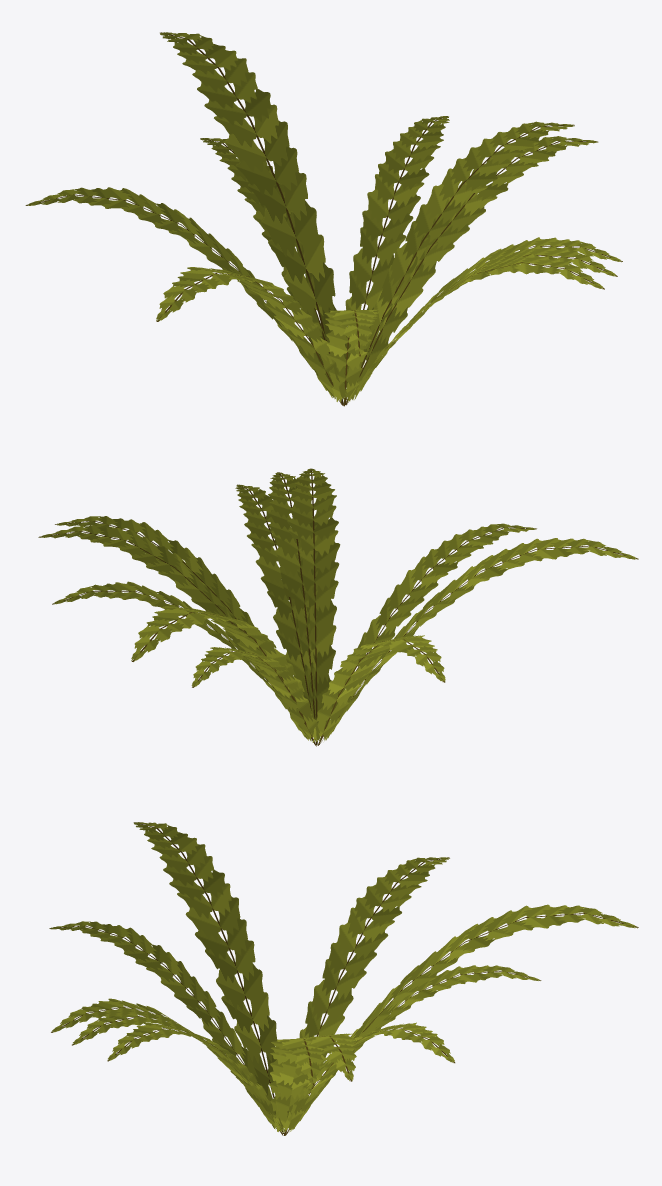
File: fern_2_burnt1.glb
The picture shows the model from 3 angles, top to bottom: view 1: azimuth 30°, elevation 25°; view 2: azimuth 150°, elevation 25°; view 3: azimuth 270°, elevation 25°; orthographic projection. The views are drawn at different scales.
Visible parts, largest first — view 1: fern_2_burnt1; view 2: fern_2_burnt1; view 3: fern_2_burnt1.
Boxes of the visible parts, x1,y1,x2,y2 form: fern_2_burnt1: [25, 32, 622, 406]; fern_2_burnt1: [38, 468, 638, 746]; fern_2_burnt1: [49, 822, 638, 1135].
Size of the model in its own units: 1.6 by 0.6369 by 1.61.
1 material, 1 textured.
